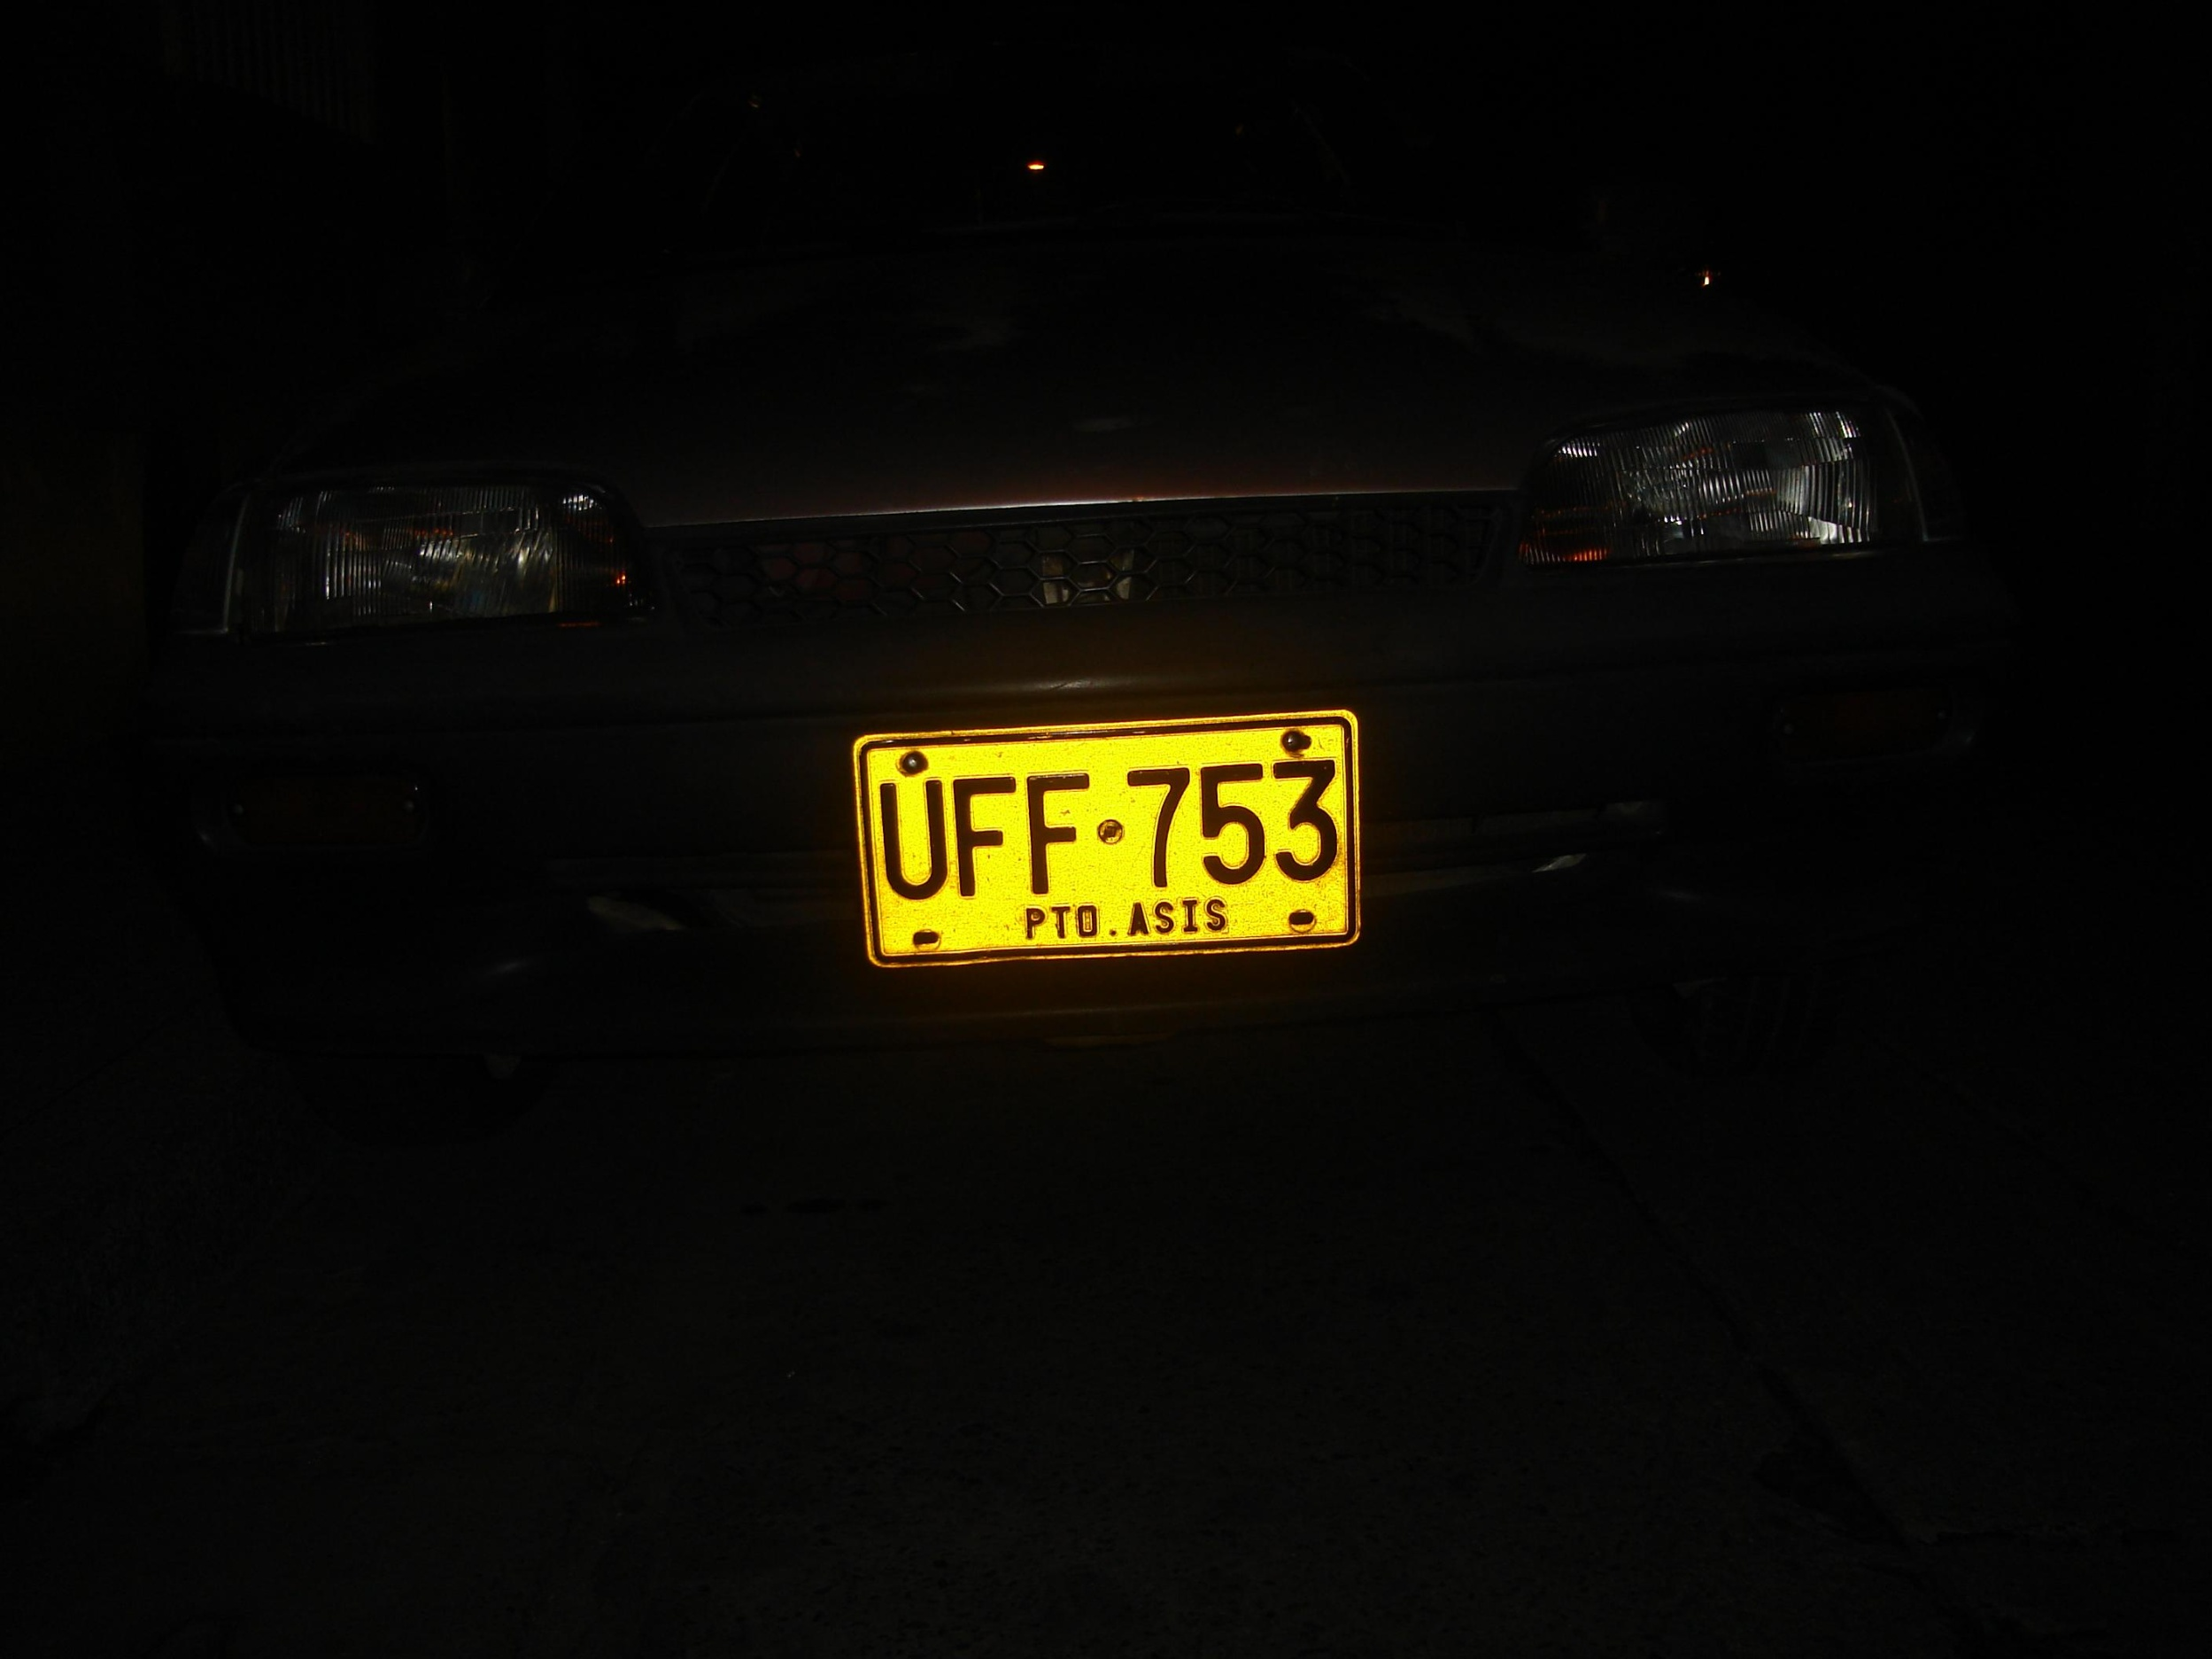placas: (829, 691, 1376, 982)
